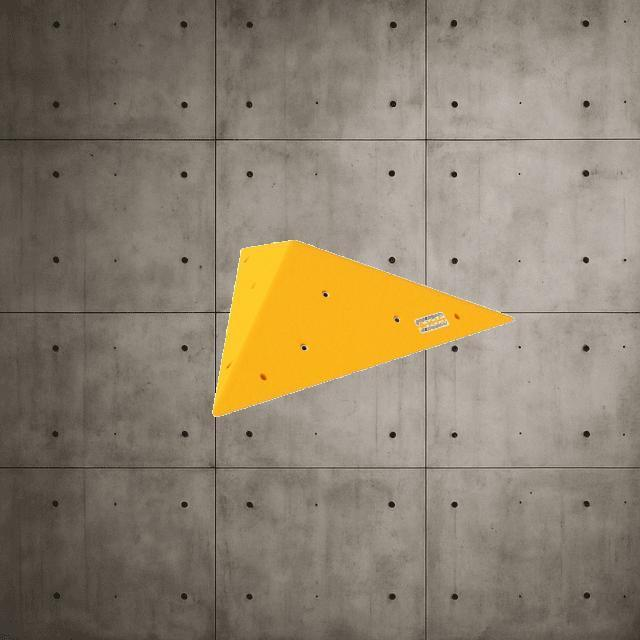Volume: (211, 238, 515, 418)
